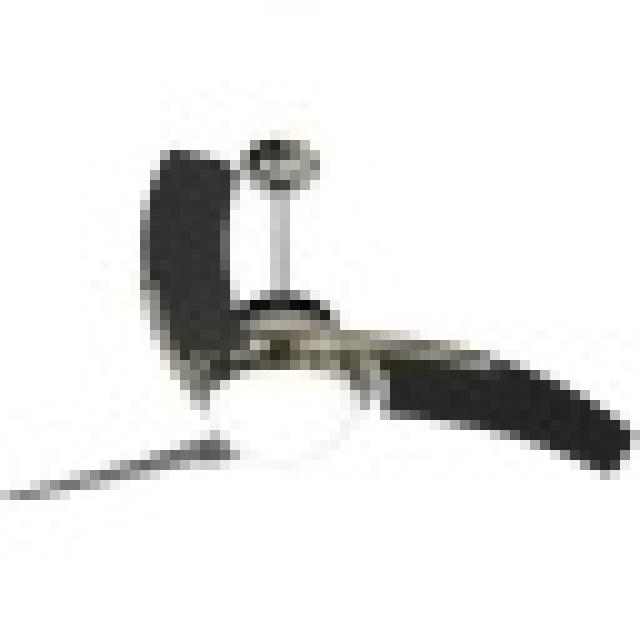Bulb: (19, 137, 640, 570)
